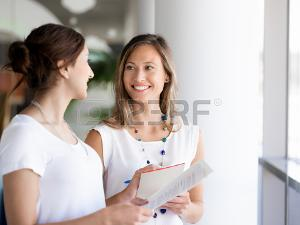person: (106, 33, 204, 176), (8, 20, 102, 160)
